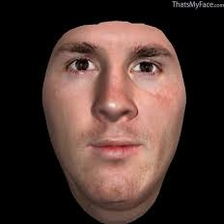no_mask: (46, 32, 182, 197)
